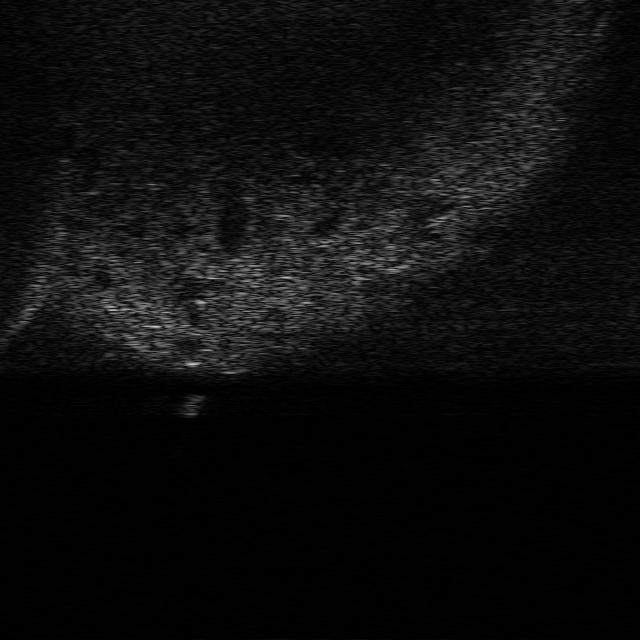cylinder: (176, 392, 206, 417)
